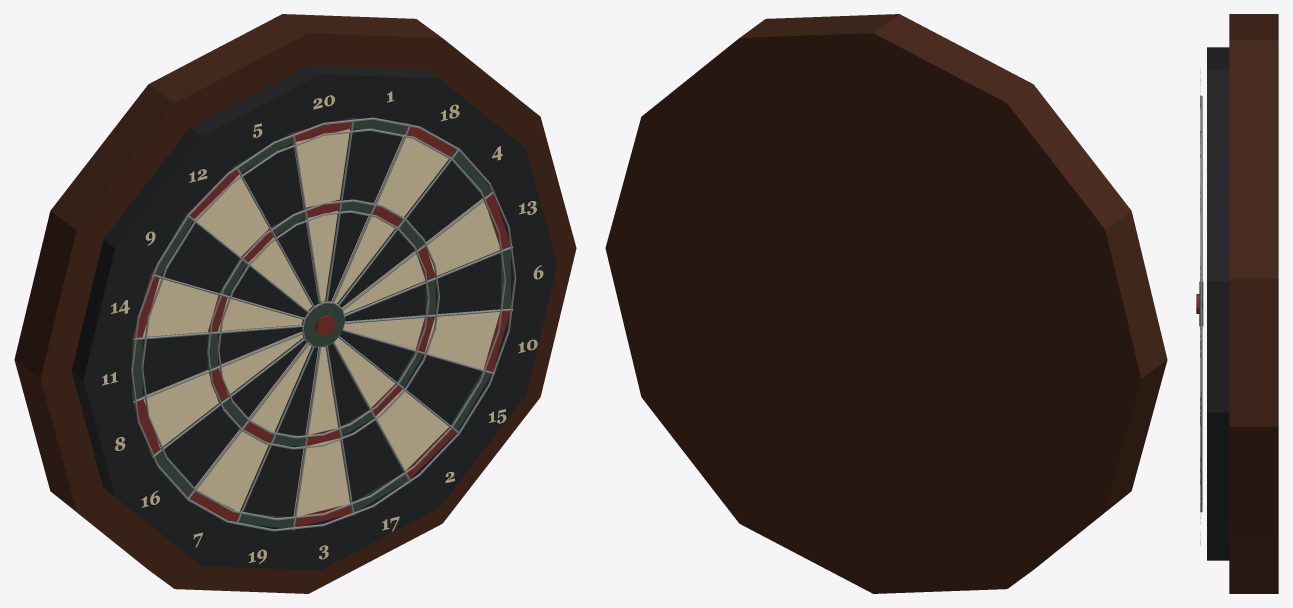
The model's file is PubDartboard.glb.
3 views of the same model, side by side, from view 1: azimuth 30°, elevation 25°; view 2: azimuth 150°, elevation 25°; view 3: azimuth 270°, elevation 25° (orthographic). The views are drawn at different scales.
Visible parts, largest first — view 1: DarkSisalBase, OakDartboardSurround, ScoringWire.004, ScoringWire.003, DartScoringBed.022, DartScoringBed.042, DartScoringBed.070, DartScoringBed.002, DartScoringBed.046, DartScoringBed.038, DartScoringBed.066, DartScoringBed.074 (+35 smaller); view 2: OakDartboardSurround; view 3: OakDartboardSurround, DarkSisalBase, ScoringWire.004, OuterBull.
Part boxes in pixels (left/top/right/bottom): DarkSisalBase: left=71, top=65, right=557, bottom=570; OakDartboardSurround: left=14, top=14, right=576, bottom=593; ScoringWire.004: left=131, top=117, right=516, bottom=531; ScoringWire.003: left=141, top=128, right=505, bottom=520; DartScoringBed.022: left=435, top=250, right=500, bottom=313; DartScoringBed.042: left=293, top=438, right=349, bottom=515; DartScoringBed.070: left=160, top=221, right=239, bottom=292; DartScoringBed.002: left=293, top=129, right=349, bottom=207; DartScoringBed.046: left=240, top=444, right=303, bottom=516; DartScoringBed.038: left=340, top=418, right=403, bottom=502; DartScoringBed.066: left=143, top=278, right=218, bottom=337; DartScoringBed.074: left=194, top=174, right=268, bottom=256; OakDartboardSurround: left=605, top=14, right=1167, bottom=593; OakDartboardSurround: left=1229, top=14, right=1278, bottom=593; DarkSisalBase: left=1207, top=47, right=1229, bottom=560; ScoringWire.004: left=1200, top=95, right=1201, bottom=512; OuterBull: left=1199, top=281, right=1203, bottom=326.
Size of the model in its own units: 2.6 by 2.6 by 0.3675.
